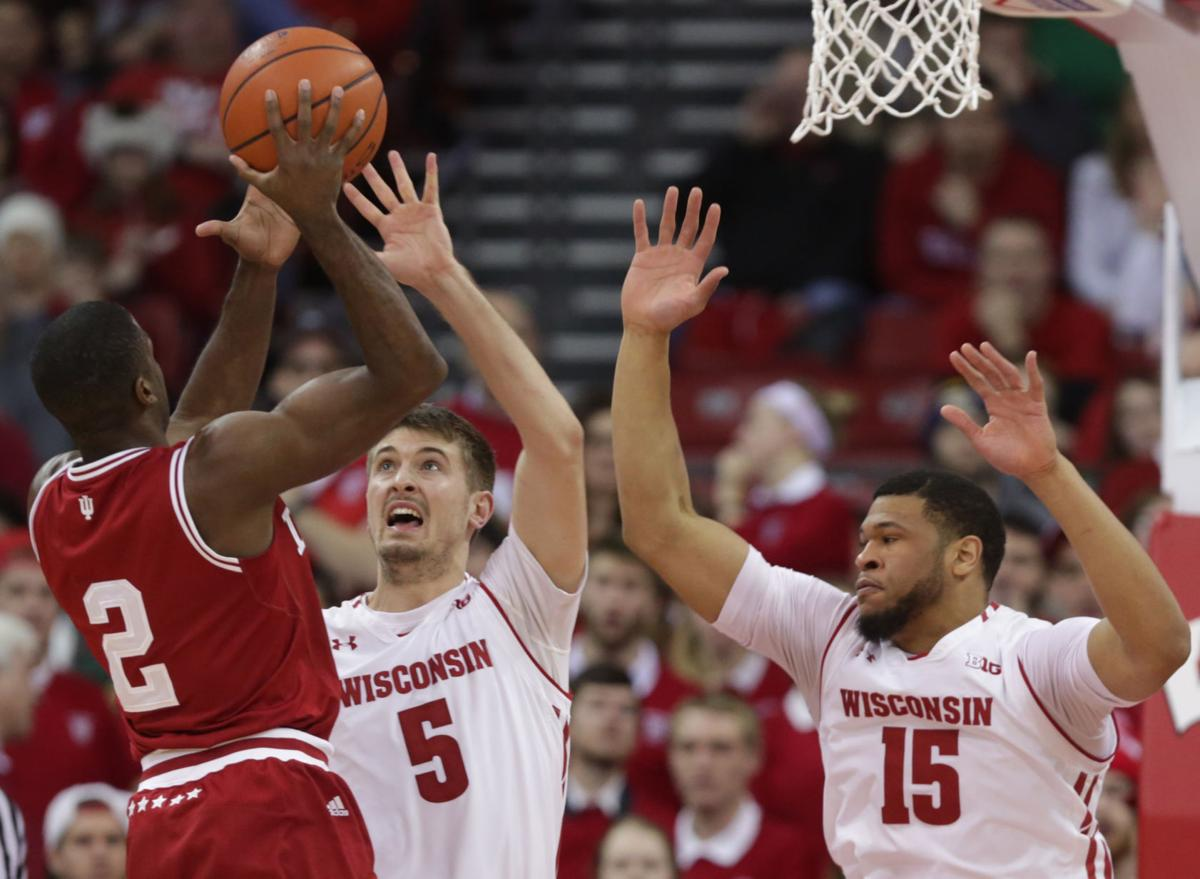ball: (203, 24, 394, 181)
defense: (296, 150, 581, 879)
shoot: (14, 18, 455, 879)
